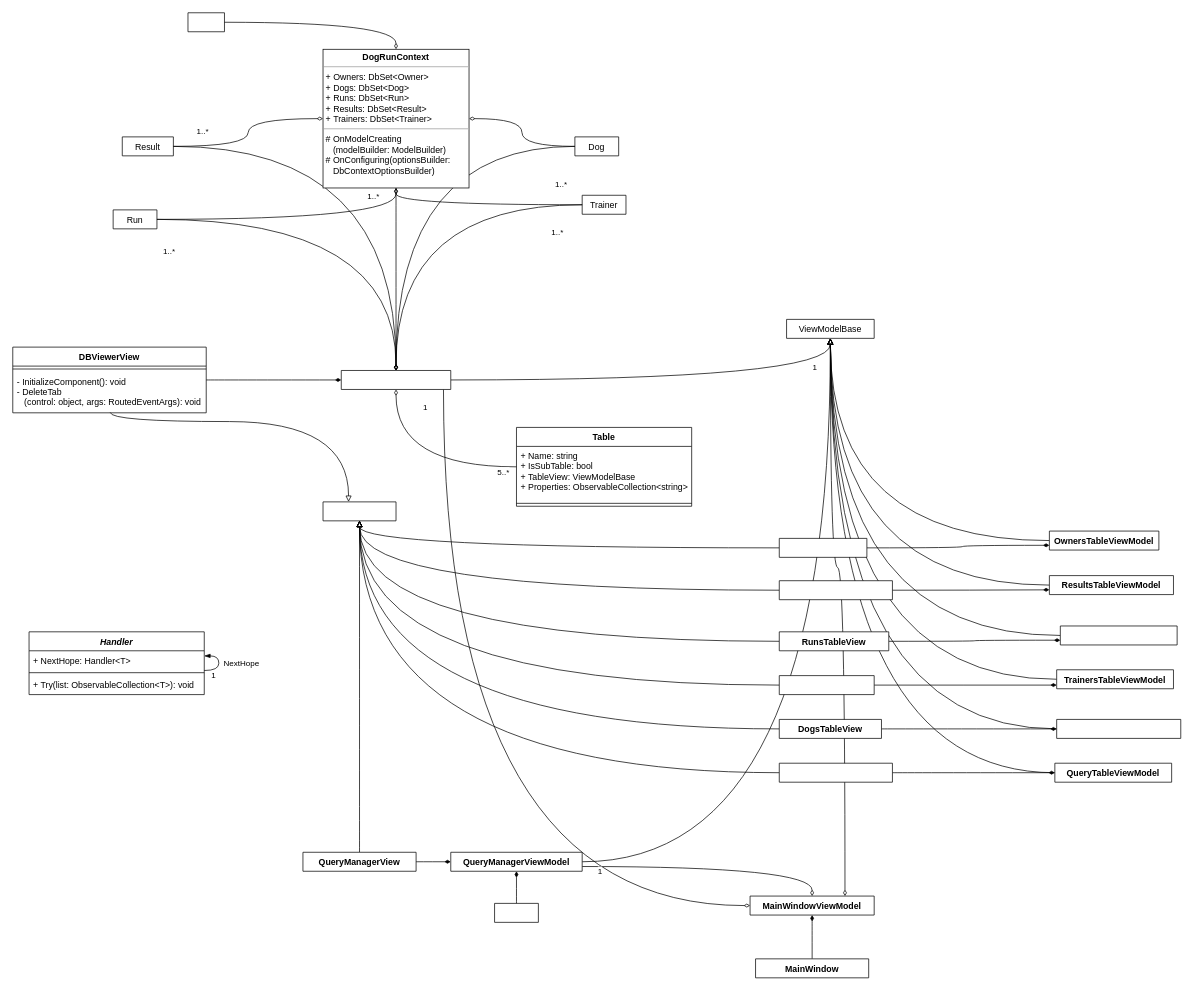
Some shapes in this 1194 by 991 pixel diagram are drawn without their labels. The shapes that lost their labels are listed below. From the top down, each one's centre as x and y in pixels, then its label:
At point 205,22: "Owner".
At point 396,379: "DBViewerViewModel".
At point 359,511: "UserControl".
At point 823,547: "OwnersTableView".
At point 835,590: "ResultsTableView".
At point 1118,635: "RunsTableViewModel".
At point 826,685: "TrainersTableView".
At point 1118,728: "DogsTableViewModel".
At point 835,772: "QueryTableView".
At point 516,912: "Filter".
